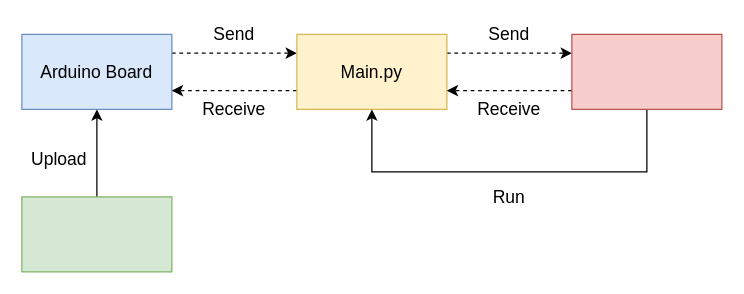
Image size: 744x294. Some labels were removed from this diagram. Here are the shapes that lost their labels. From the top down, the box of each, then its label:
(571, 33, 722, 109): Simulator
(21, 196, 172, 272): Arduino IDE
